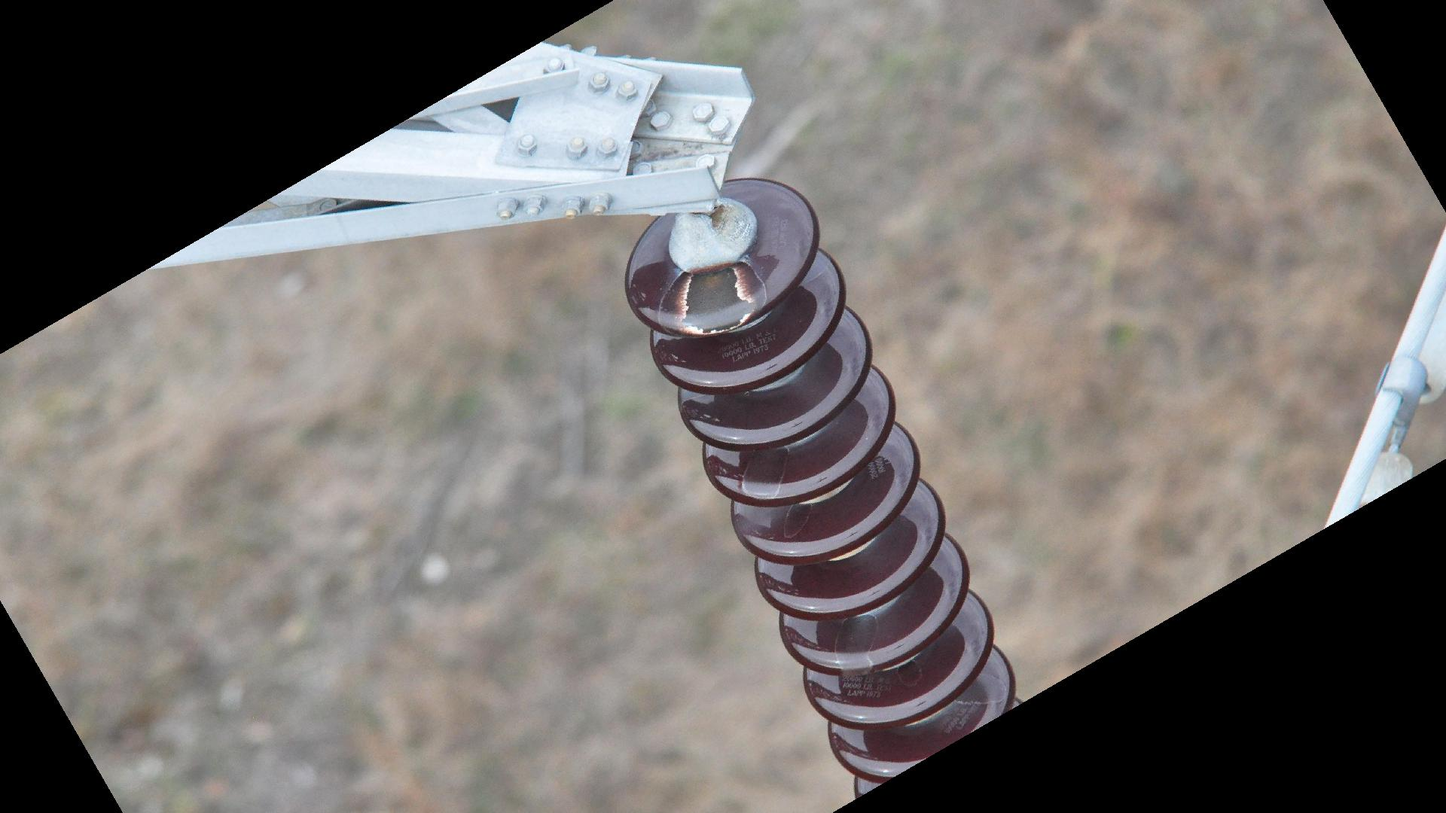insulator: (619, 173, 1033, 805)
insulator_flashover: (677, 263, 755, 342)
